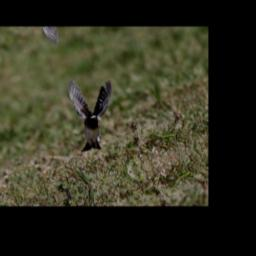Swallow: (55, 67, 133, 156)
